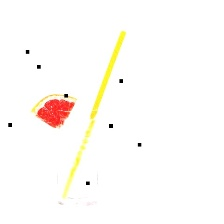drinking_straw: (55, 26, 131, 202)
glass: (51, 101, 105, 212)
